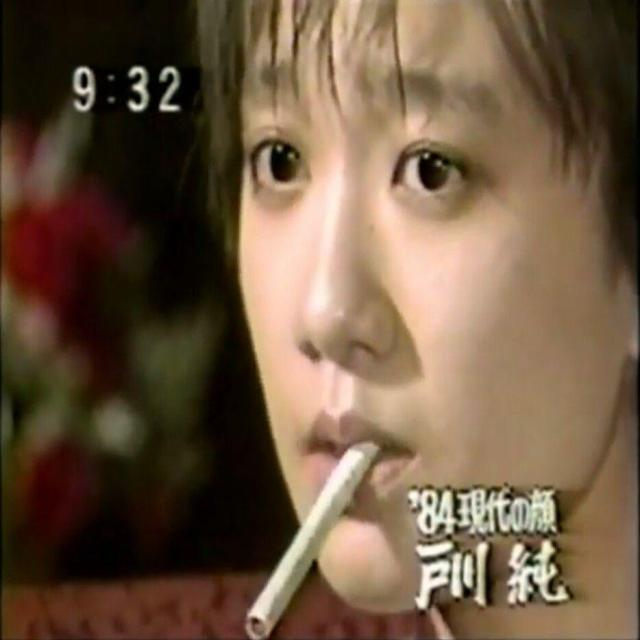cigarette: (238, 403, 378, 636)
